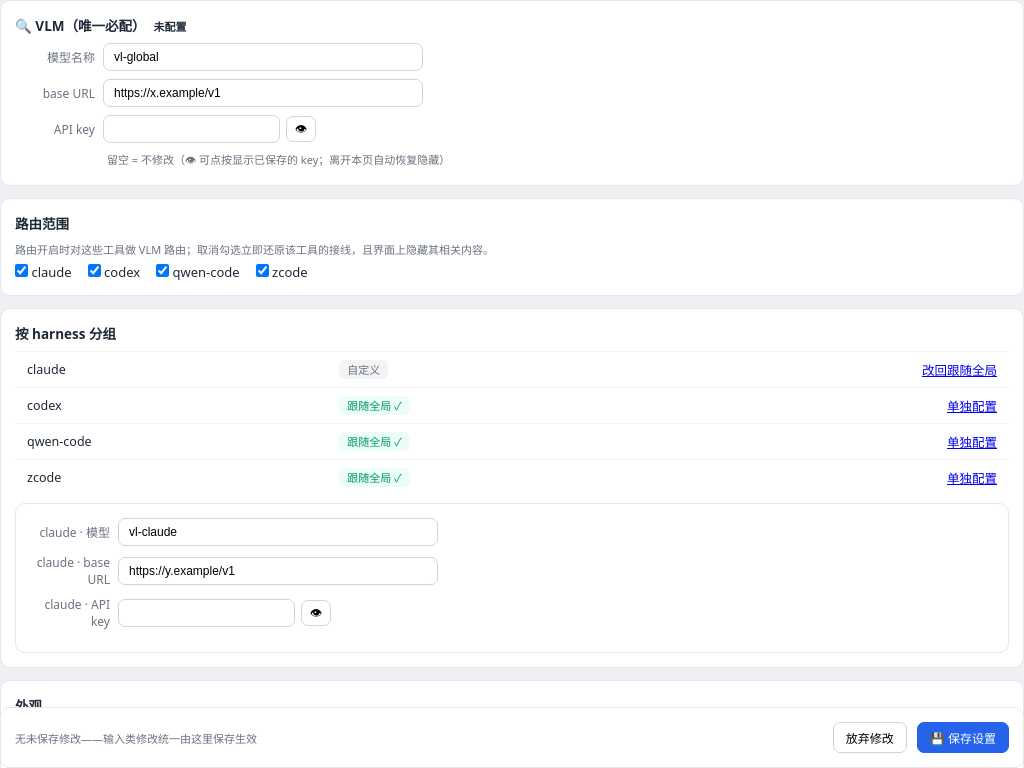
it: SettingsPage SecretField（VLM key 显隐） › per-harness 显示该组 key
expect the field showing "vl-global" next to "模型名称" is shown: met, box x1=103 y1=43 x2=423 y2=71
Click the button named "显示 claude 的 API key" at [316, 613], box x1=301 y1=600 x2=331 y2=626
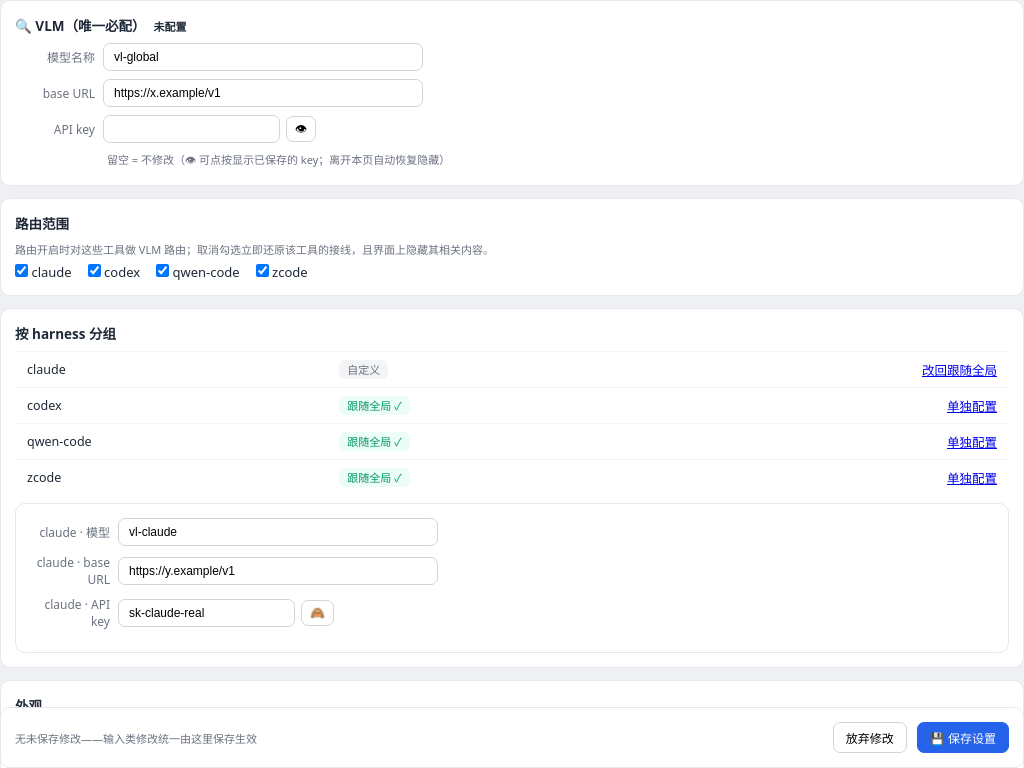
expect the field showing "sk-claude-real" next to "claude · API key" is shown: met, box x1=118 y1=599 x2=295 y2=627
